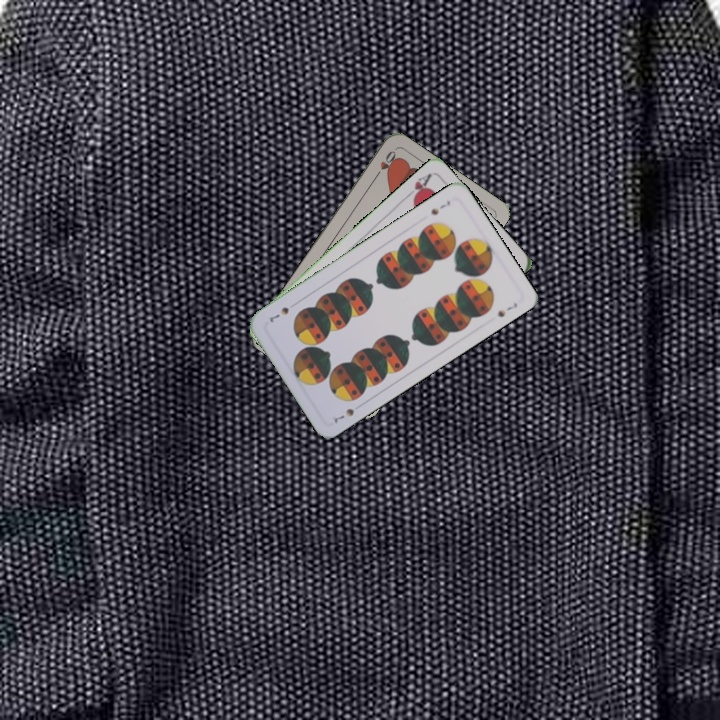HA: (401, 169, 434, 204)
HO: (370, 146, 399, 182)
S7: (330, 404, 357, 426), (427, 197, 453, 218)
